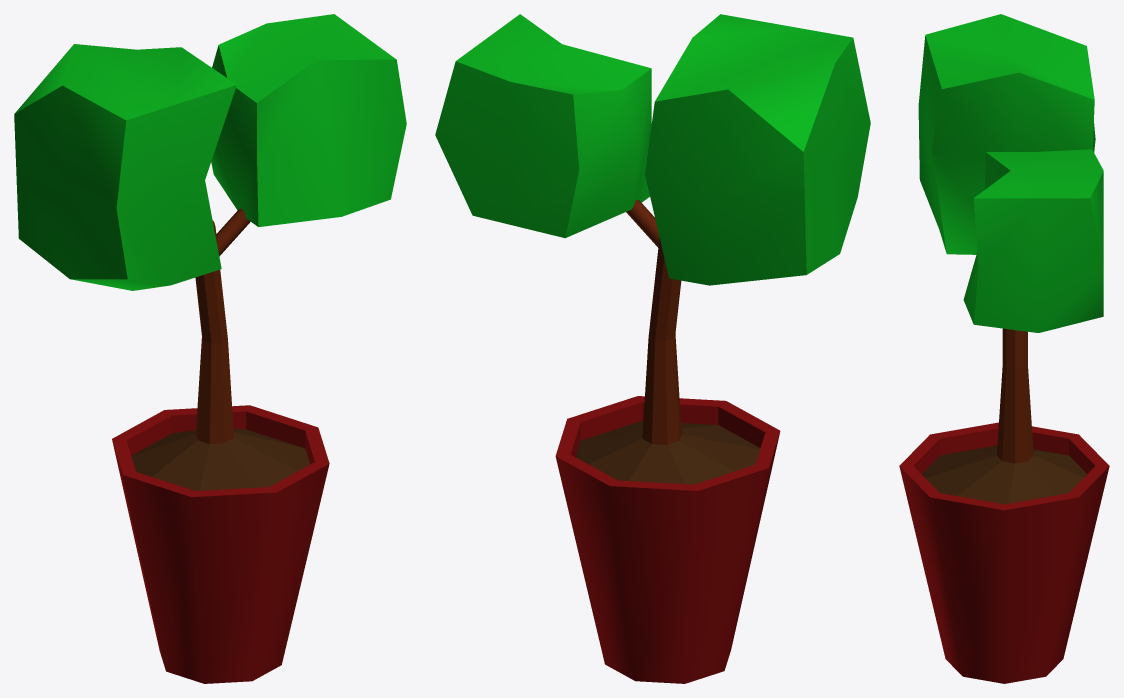
File: Planta01.FBX
The picture shows the model from 3 angles, left to right: view 1: azimuth 30°, elevation 25°; view 2: azimuth 150°, elevation 25°; view 3: azimuth 270°, elevation 25°; orthographic projection. The views are drawn at different scales.
Visible parts, largest first — view 1: Planta01; view 2: Planta01; view 3: Planta01.
Boxes of the visible parts, x1,y1,x2,y2 form: Planta01: (14,14,406,683); Planta01: (435,14,870,683); Planta01: (899,14,1109,683).
Size of the model in its own units: 0.8036 by 1.38 by 0.4599.
